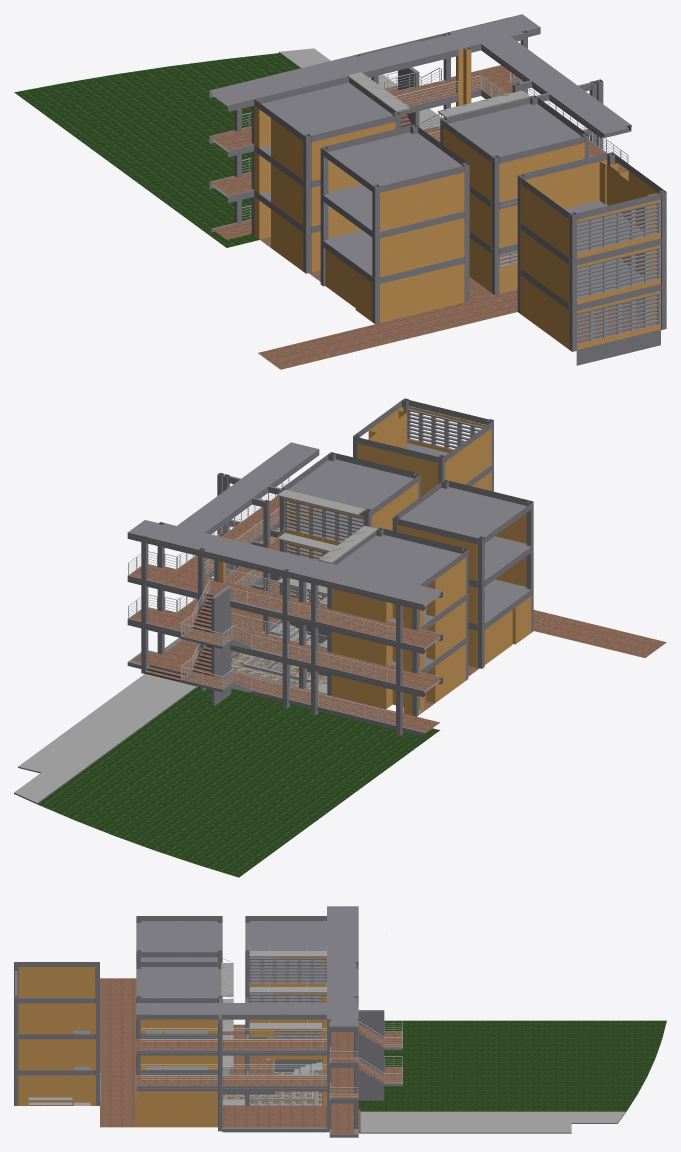
The model's file is glb_edificio.glb.
The picture shows the model from 3 angles, top to bottom: view 1: azimuth 30°, elevation 25°; view 2: azimuth 150°, elevation 25°; view 3: azimuth 270°, elevation 25°; orthographic projection. The views are drawn at different scales.
Visible parts, largest first — view 1: Layer:placa 2 piso_14, Layer:Muro_6, Layer:verde_15, Layer:Columnas y Muros_0, Layer:piso ladrillo_4, Layer:Piso y textura_1, Layer:Bloque gris_5, Layer:Baranda_3, Layer:aleros_16, Layer:piso cemento est_10, Layer:piso H_2; view 2: Layer:verde_15, Layer:placa 2 piso_14, Layer:Muro_6, Layer:piso ladrillo_4, Layer:Columnas y Muros_0, Layer:piso cemento est_10, Layer:Baranda_3, Layer:Piso y textura_1, Layer:piso H_2, Layer:aleros_16, Layer:Bloque gris_5, Layer:piedra suelta_8 (+1 smaller); view 3: Layer:placa 2 piso_14, Layer:verde_15, Layer:Muro_6, Layer:piso ladrillo_4, Layer:Columnas y Muros_0, Layer:piso cemento est_10, Layer:Piso y textura_1, Layer:Baranda_3, Layer:aleros_16, Layer:piedra suelta_8, Layer:piso H_2, Layer:Piso V_9 (+2 smaller).
Boxes of the visible parts, left/top/right/bottom form: Layer:placa 2 piso_14: left=209, top=14, right=663, bottom=310; Layer:Muro_6: left=254, top=47, right=660, bottom=349; Layer:verde_15: left=14, top=53, right=299, bottom=247; Layer:Columnas y Muros_0: left=234, top=17, right=666, bottom=351; Layer:piso ladrillo_4: left=212, top=67, right=656, bottom=369; Layer:Piso y textura_1: left=211, top=52, right=661, bottom=365; Layer:Bloque gris_5: left=509, top=203, right=660, bottom=341; Layer:Baranda_3: left=242, top=54, right=628, bottom=218; Layer:aleros_16: left=347, top=69, right=530, bottom=117; Layer:piso cemento est_10: left=279, top=48, right=517, bottom=267; Layer:piso H_2: left=210, top=65, right=519, bottom=300; Layer:verde_15: left=37, top=687, right=439, bottom=877; Layer:placa 2 piso_14: left=127, top=400, right=531, bottom=736; Layer:Muro_6: left=217, top=406, right=531, bottom=715; Layer:piso ladrillo_4: left=134, top=497, right=666, bottom=731; Layer:Columnas y Muros_0: left=141, top=398, right=533, bottom=736; Layer:piso cemento est_10: left=14, top=674, right=197, bottom=802; Layer:Baranda_3: left=128, top=477, right=395, bottom=723; Layer:Piso y textura_1: left=14, top=408, right=484, bottom=804; Layer:piso H_2: left=130, top=567, right=441, bottom=732; Layer:aleros_16: left=277, top=484, right=377, bottom=648; Layer:Bloque gris_5: left=285, top=411, right=475, bottom=601; Layer:piedra suelta_8: left=231, top=631, right=327, bottom=686; Layer:placa 2 piso_14: left=15, top=906, right=358, bottom=1103; Layer:verde_15: left=358, top=1020, right=666, bottom=1111; Layer:Muro_6: left=18, top=957, right=326, bottom=1127; Layer:piso ladrillo_4: left=100, top=978, right=399, bottom=1133; Layer:Columnas y Muros_0: left=14, top=916, right=384, bottom=1131; Layer:piso cemento est_10: left=28, top=1097, right=625, bottom=1133; Layer:Piso y textura_1: left=15, top=958, right=625, bottom=1137; Layer:Baranda_3: left=141, top=934, right=402, bottom=1098; Layer:aleros_16: left=221, top=946, right=326, bottom=1068; Layer:piedra suelta_8: left=222, top=1065, right=322, bottom=1104; Layer:piso H_2: left=270, top=1024, right=401, bottom=1133; Layer:Piso V_9: left=28, top=1039, right=326, bottom=1105.
Size of the model in its own units: 32.59 by 12.28 by 57.6.
Materials: 11 (8 with a texture image).
